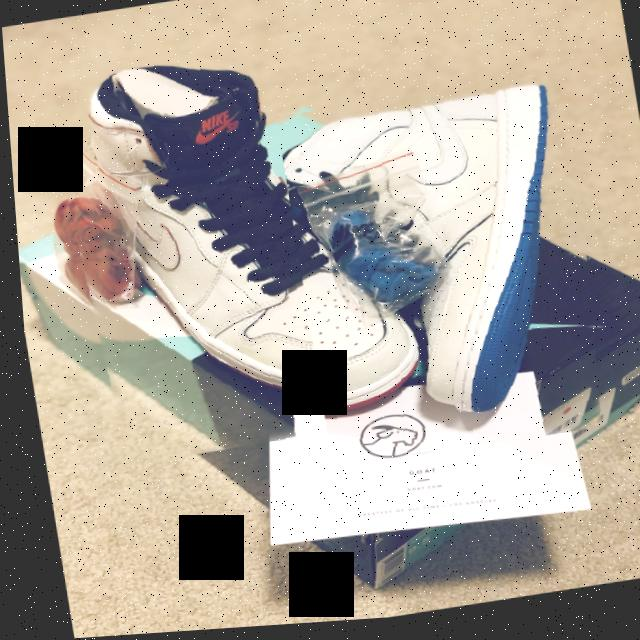shoe: (35, 20, 454, 473), (272, 77, 622, 478)
